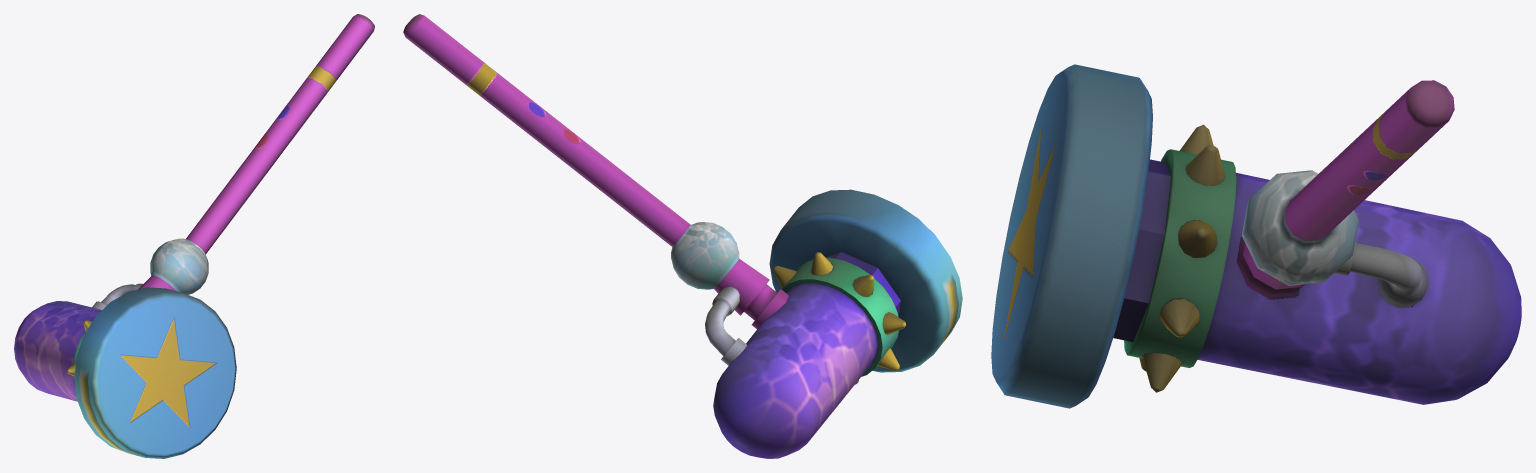
The model's file is hammer_grade3.fbx.
3 views of the same model, side by side, from view 1: azimuth 30°, elevation 25°; view 2: azimuth 150°, elevation 25°; view 3: azimuth 270°, elevation 25° (orthographic). The views are drawn at different scales.
Parts seen in each view (by area): view 1: pCylinder2; view 2: pCylinder2; view 3: pCylinder2.
Part boxes in pixels (x1=…): pCylinder2: x1=14, y1=14, x2=374, y2=458; pCylinder2: x1=403, y1=14, x2=962, y2=458; pCylinder2: x1=991, y1=64, x2=1521, y2=408.
Size of the model in its own units: 108 by 82.19 by 65.15.
1 material, 1 textured.
